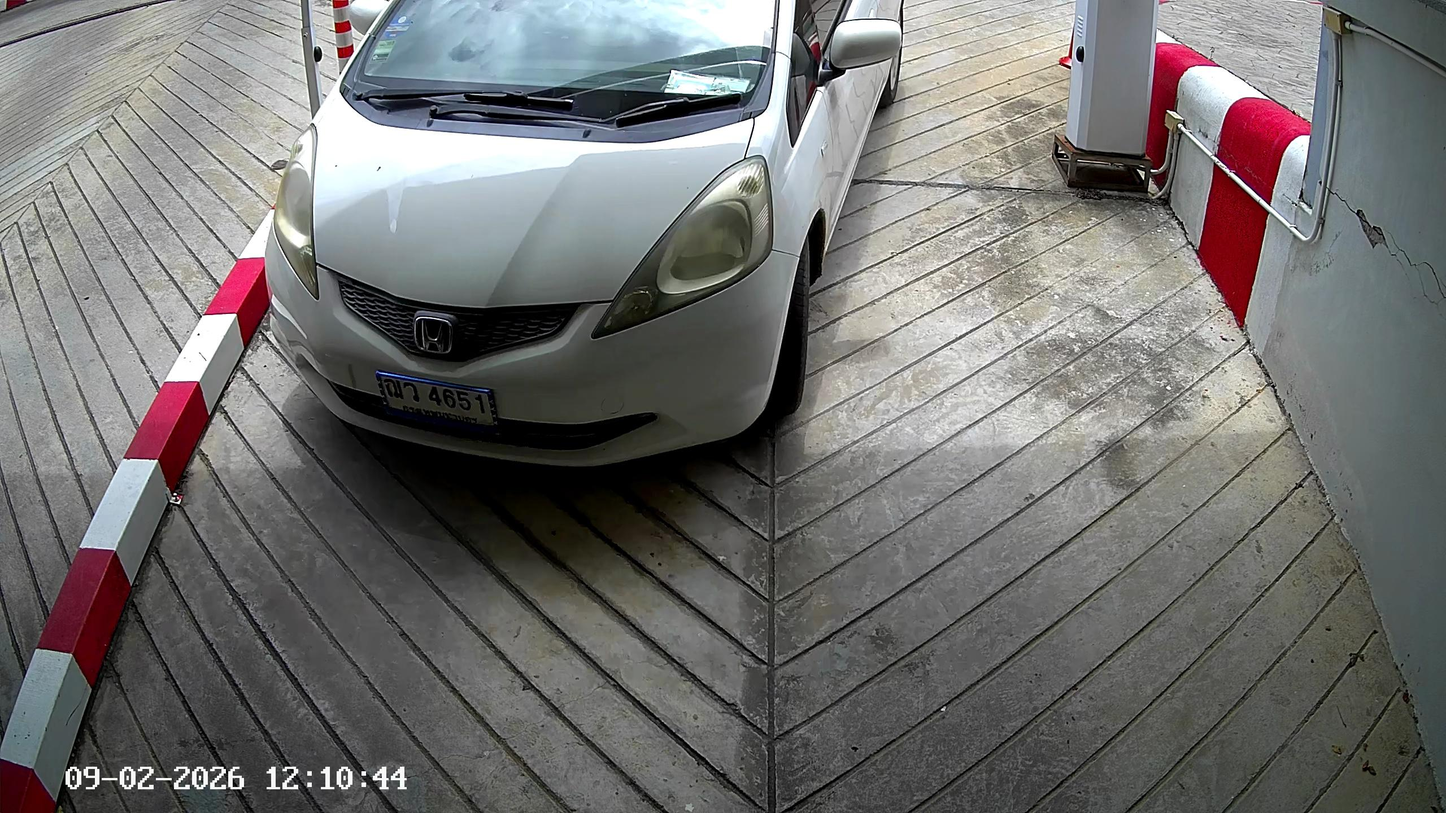car: (263, 2, 906, 476)
license-plate: (374, 368, 500, 433)
